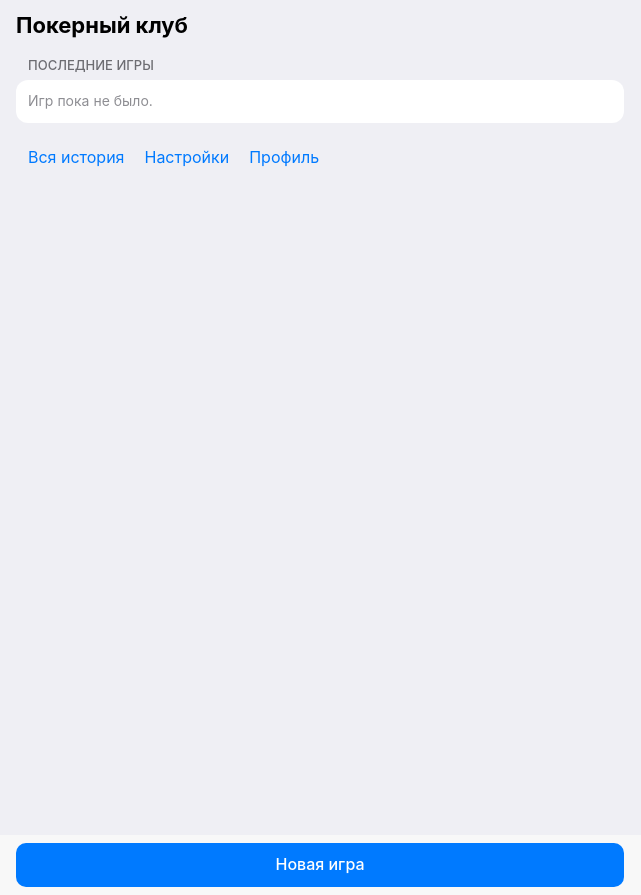
Test: ChatHomePage › offers a new game when none is running
This screenshot has width=641, height=895.
Click the button "Новая игра".
click(320, 865)  # box [16,843,624,887]
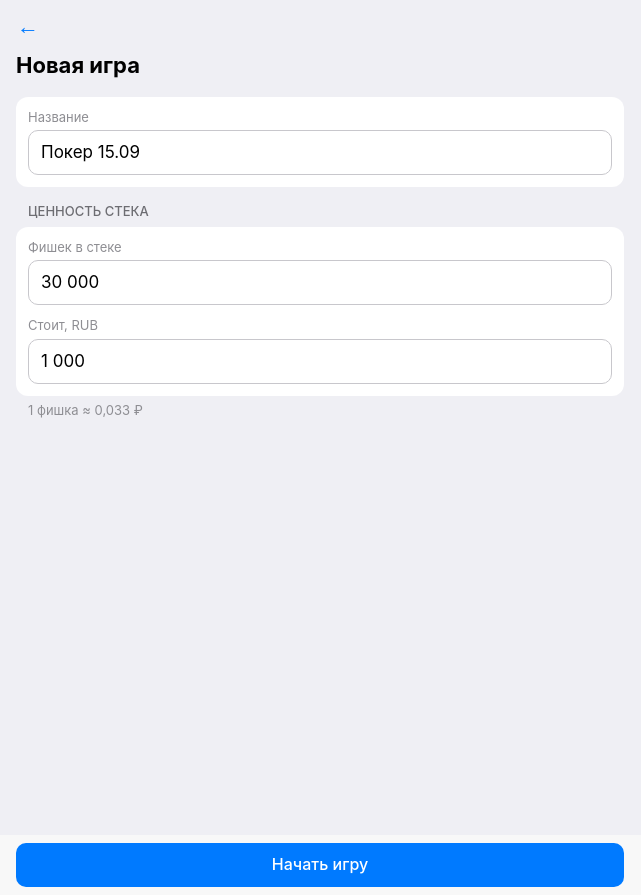
Expected: the heading "Новая игра" is shown, [16,52,140,78]
